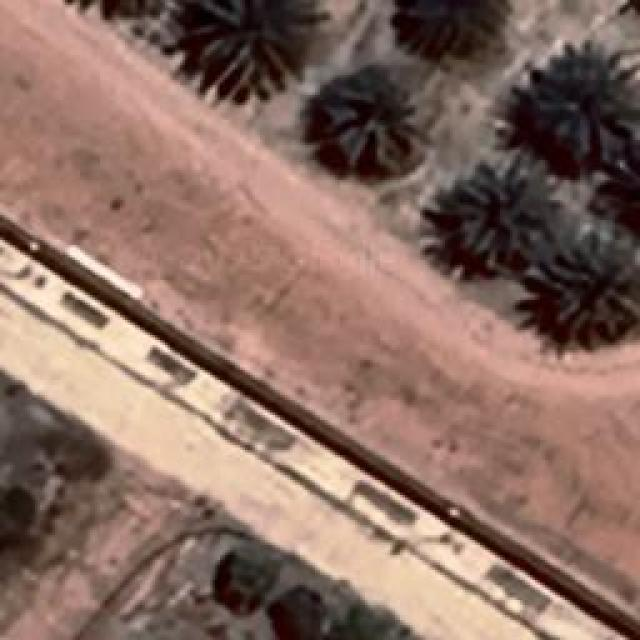PalmTree: (190, 0, 320, 95), (534, 45, 638, 160), (452, 152, 560, 260), (544, 228, 638, 348), (312, 68, 420, 170), (406, 1, 502, 56), (68, 0, 185, 24)
